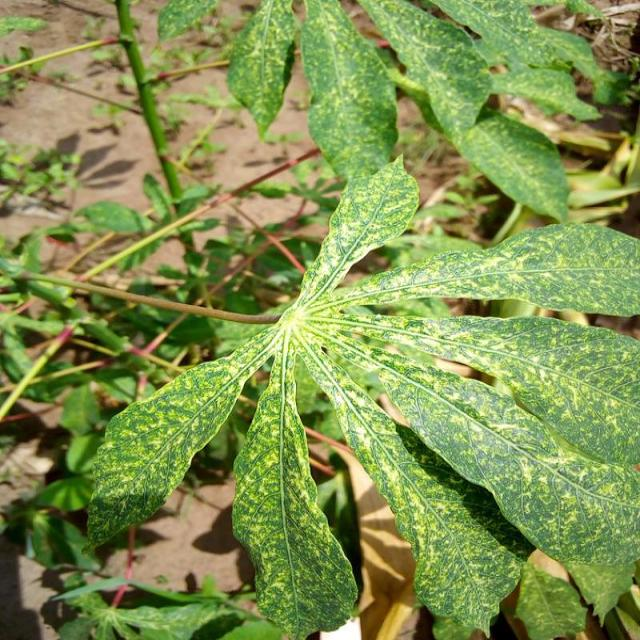cassava leaf: (84, 151, 638, 637)
